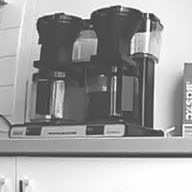not empty coffee: (83, 63, 145, 126)
